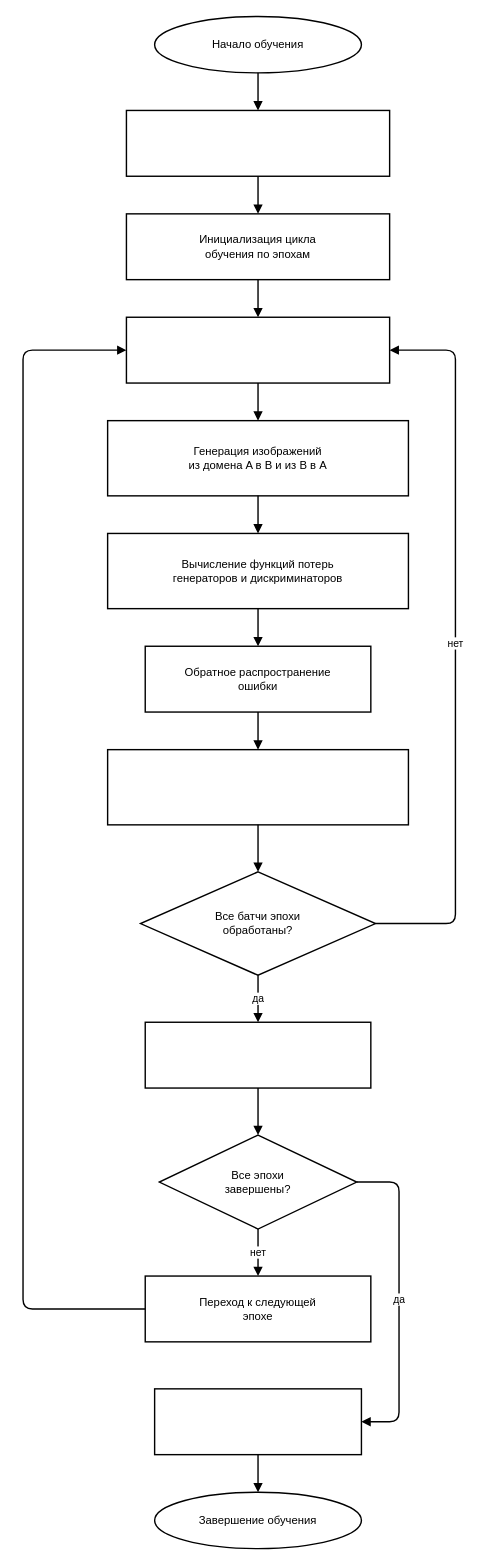
This 480x1566 diagram has some shape labels left out. The centre of each missing label's shape, as x and y in pixels:
"Загрузка очередного батча изображений A и B" goes at (257,349).
"Загрузка подготовленных датасетов" goes at (257,143).
"Обновление параметров генераторов и дискриминаторов" goes at (258,787).
"Сохранение итоговой модели" goes at (258,1421).
"Сохранение статистики и checkpoint" goes at (257,1054).
